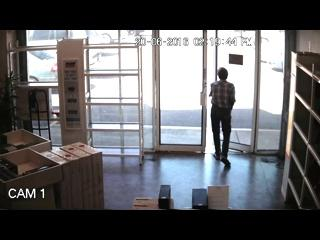Normal: (209, 67, 236, 167)
